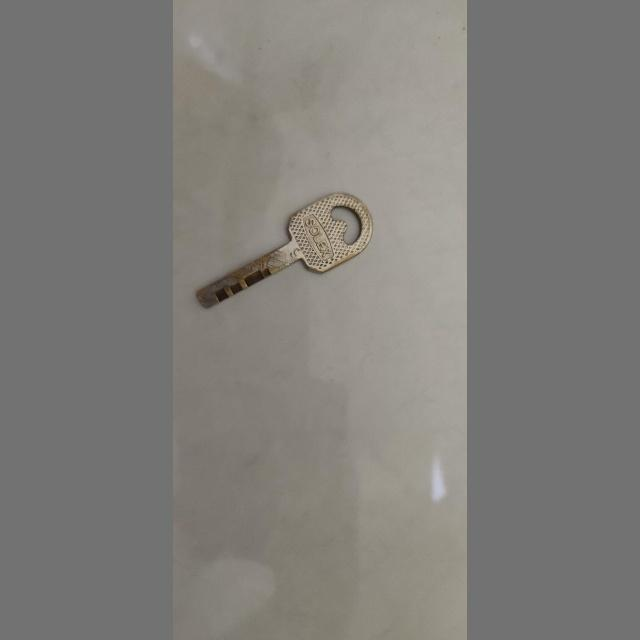Keys: (192, 186, 374, 318)
